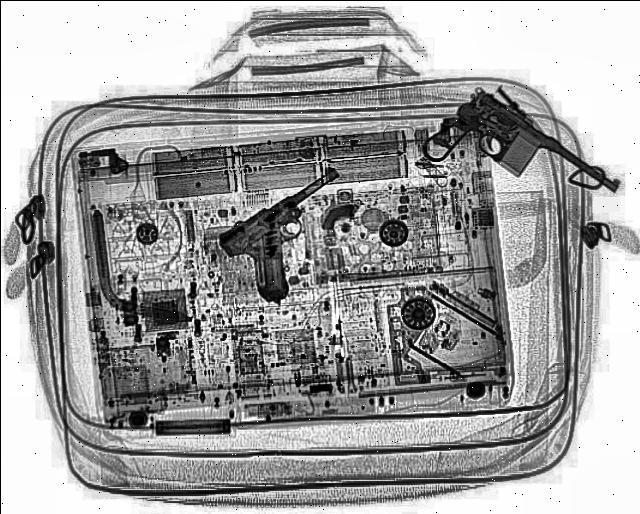Gun: (408, 84, 628, 244), (201, 164, 401, 308)
